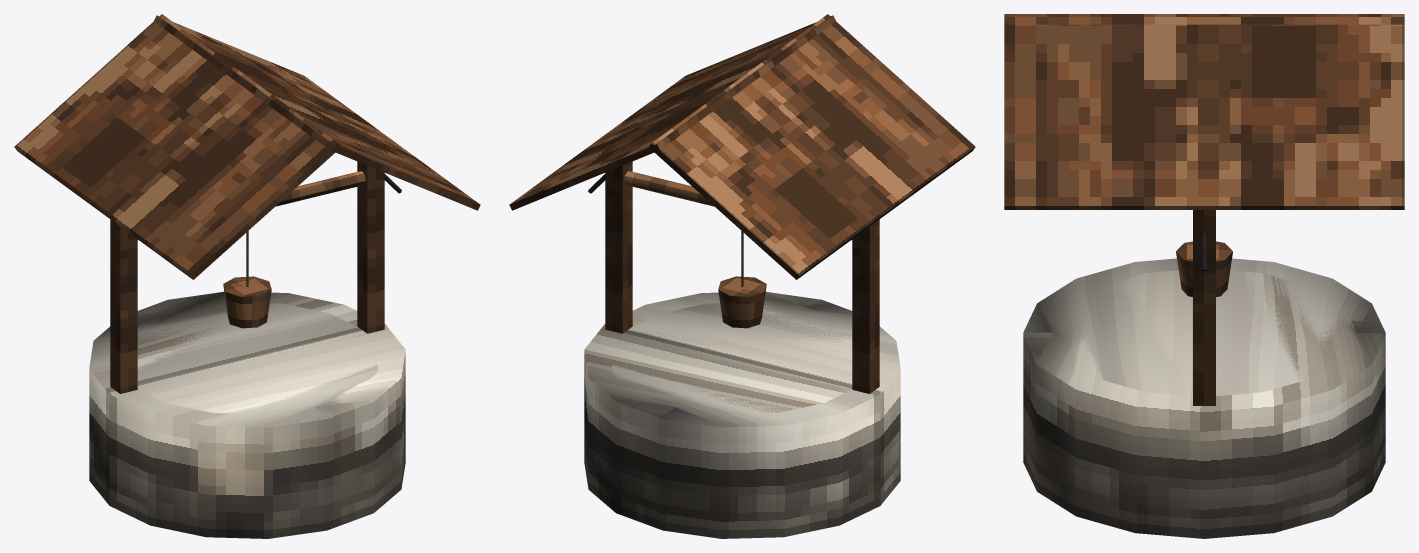
File: well.glb
The picture shows the model from 3 angles, left to right: view 1: azimuth 30°, elevation 25°; view 2: azimuth 150°, elevation 25°; view 3: azimuth 270°, elevation 25°; orthographic projection. The views are drawn at different scales.
Visible parts, largest first — view 1: well; view 2: well; view 3: well.
Part boxes in pixels (x1,y1,x2,y2): well: (14, 14, 480, 538); well: (509, 14, 975, 538); well: (1004, 14, 1404, 538).
Size of the model in its own units: 2.06 by 2.58 by 2.1.
Materials: 1 (1 with a texture image).
